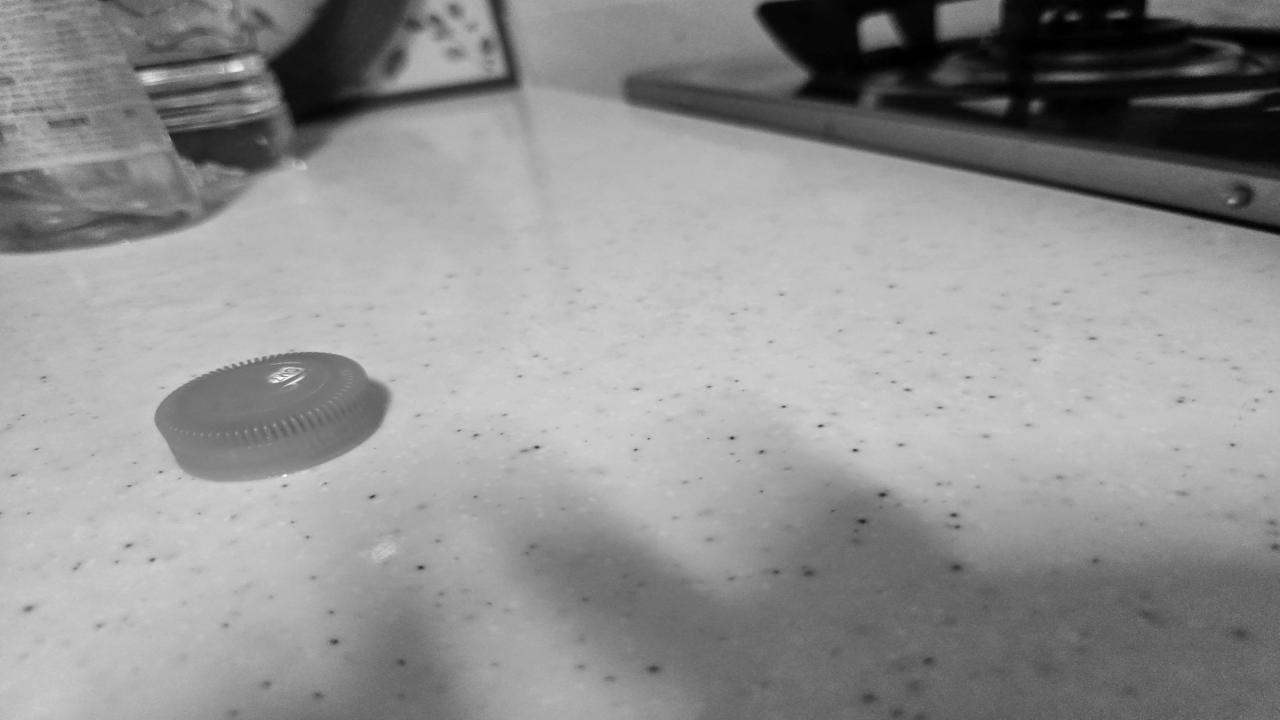bottle_cap: (160, 352, 374, 480)
